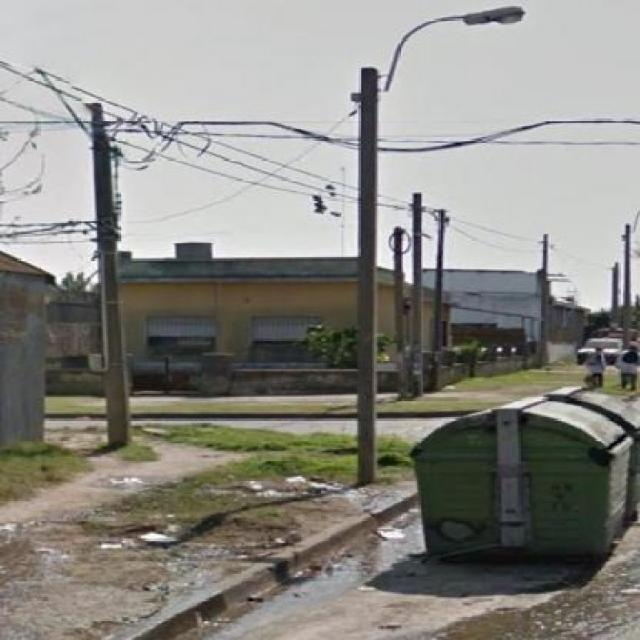garbage: (203, 470, 366, 503), (96, 520, 200, 568), (369, 515, 421, 550), (97, 471, 152, 500)
